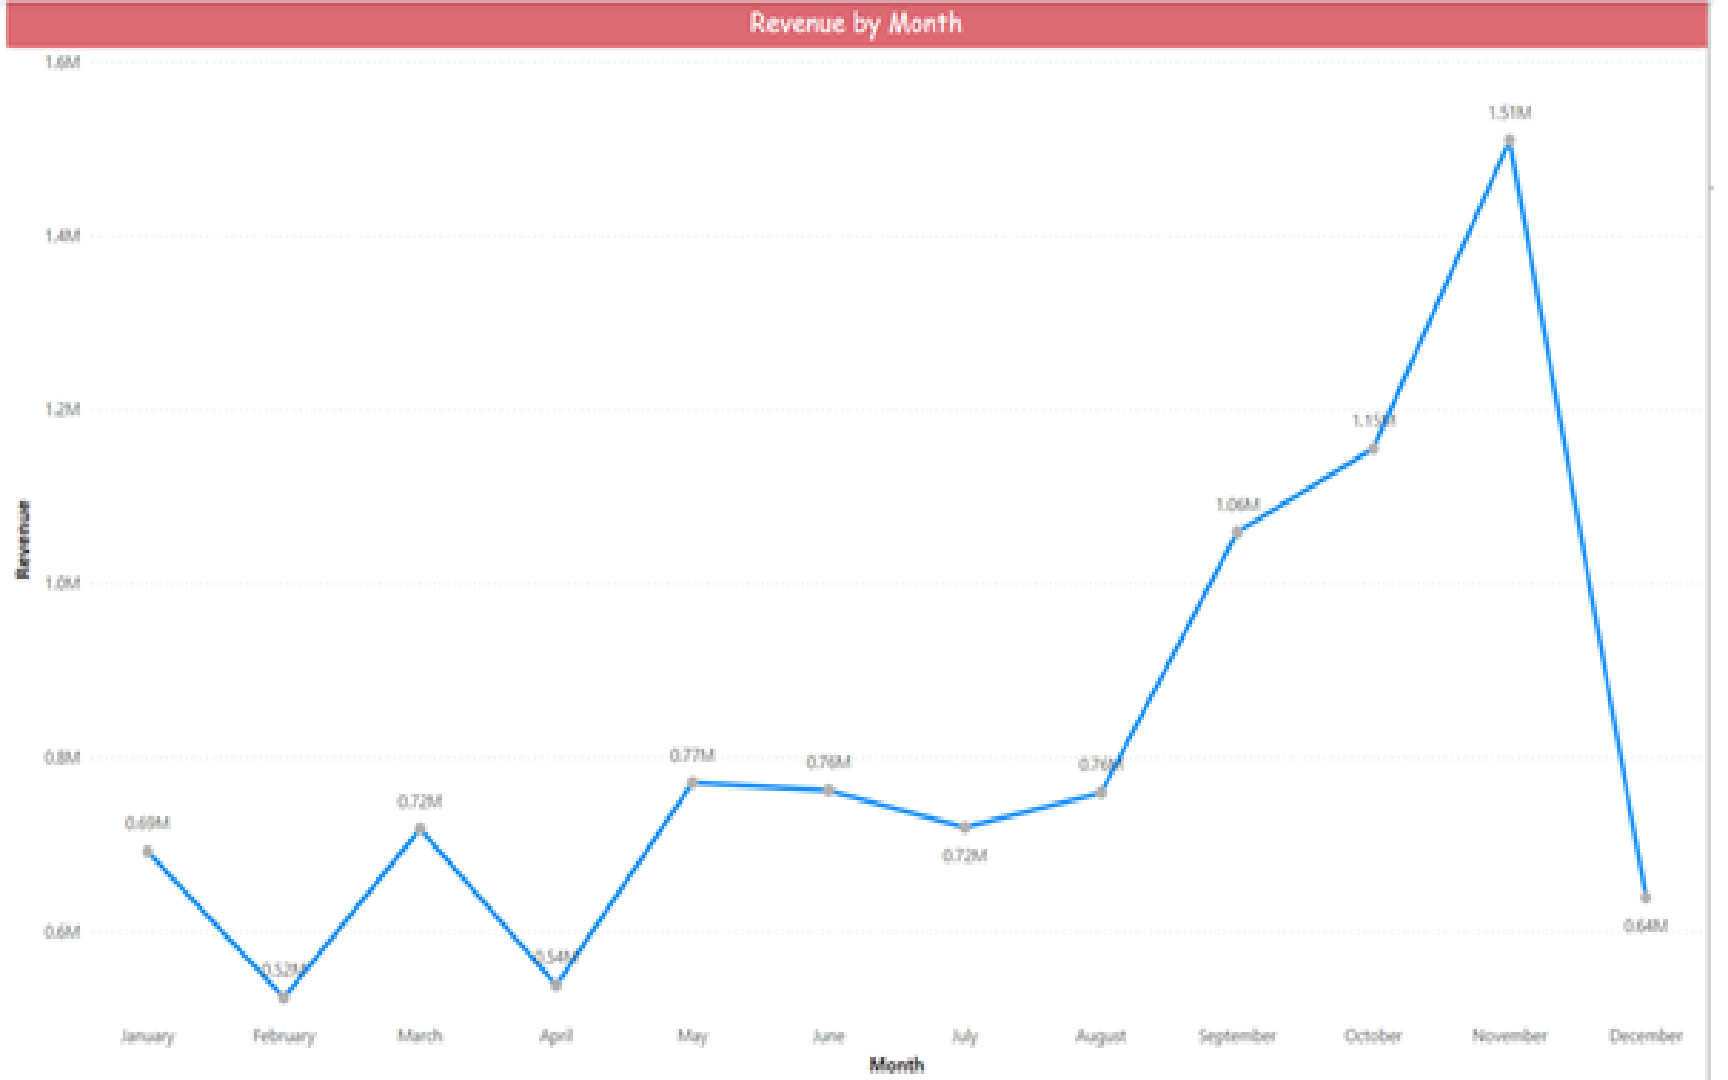

What the dashboard file says about the page in this screenshot:
{"tool":"powerbi","page":{"name":"Question 1","canvas":[1280,720],"ordinal":0},"visuals":[{"type":"lineChart","fields":{"Y":["Sum(Online Retail.Revenue)"],"Category":["Online Retail.InvoiceDate.Variation.Date Hierarchy.Month"]},"box":[9.7,0,1270.3,719.8],"z":0}]}

Visuals, with their boxes on the page's 1280x720 design canvas (x1, y1, x2, y2). These are canvas units, not pixel positions in the 1728x1080 screenshot, which may show the page scaled, cropped or inside an application window:
lineChart - Sum(Online Retail.Revenue) x Online Retail.InvoiceDate.Variation.Date Hierarchy.Month: x1=10, y1=0, x2=1280, y2=720
